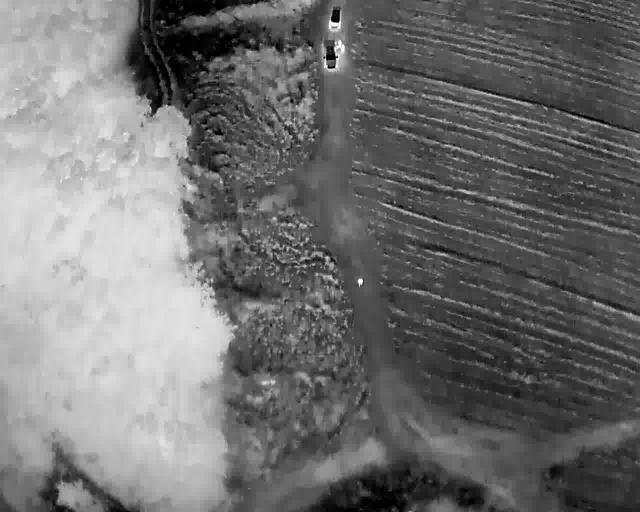car: (323, 39, 338, 69), (328, 6, 341, 31)
person: (357, 278, 363, 287), (338, 39, 342, 48), (341, 43, 344, 52)
